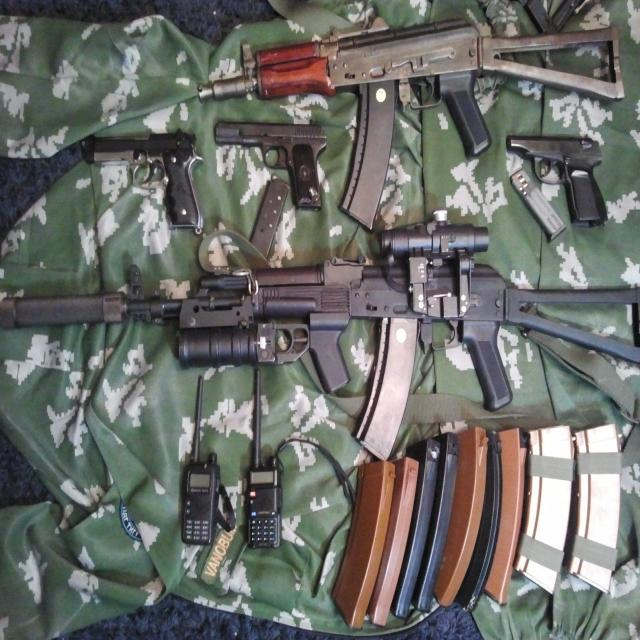firearm: (1, 209, 640, 455), (200, 18, 624, 230)
pistol: (84, 128, 205, 233), (215, 119, 328, 210), (507, 135, 608, 225)
